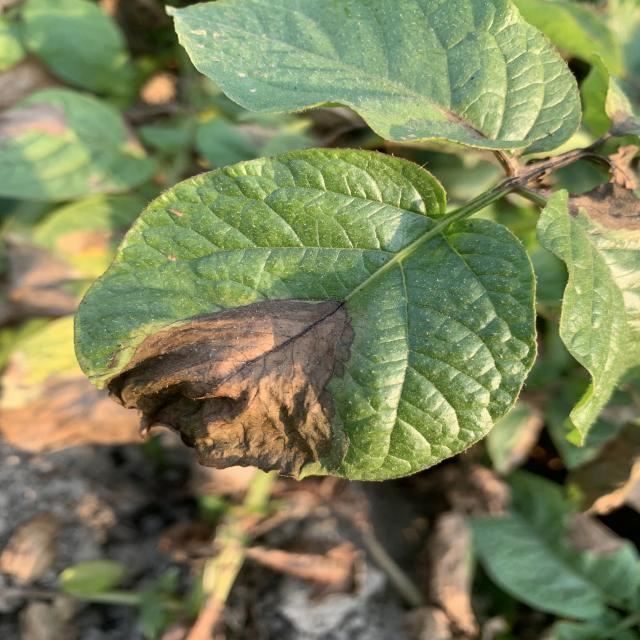lateblight: (108, 300, 353, 478)
